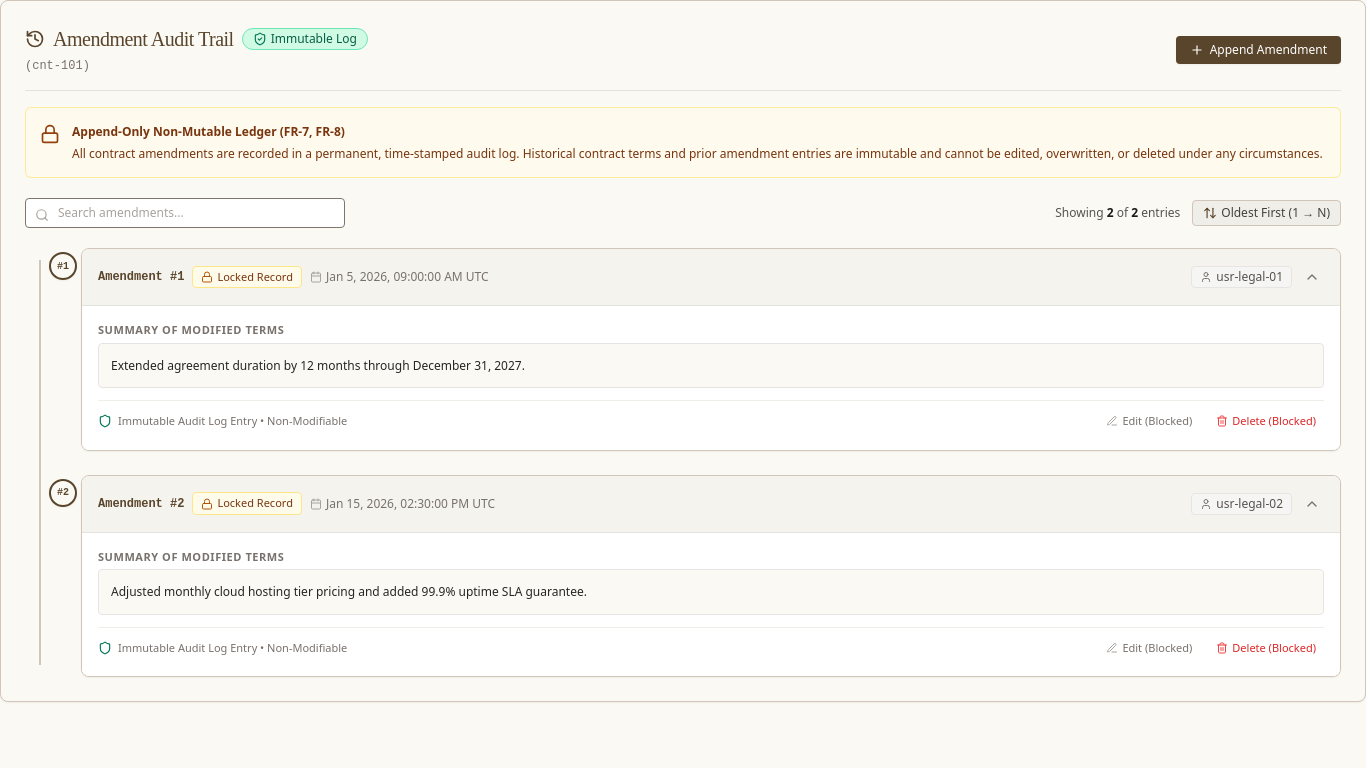
AmendmentTimeline Component [FR-7, FR-8] › toggles chronological sorting order between Oldest First and Newest First
The width and height of the screenshot is (1366, 768).
Click the button with test id "sort-toggle".
click(1267, 213)  # box [1192,200,1341,226]
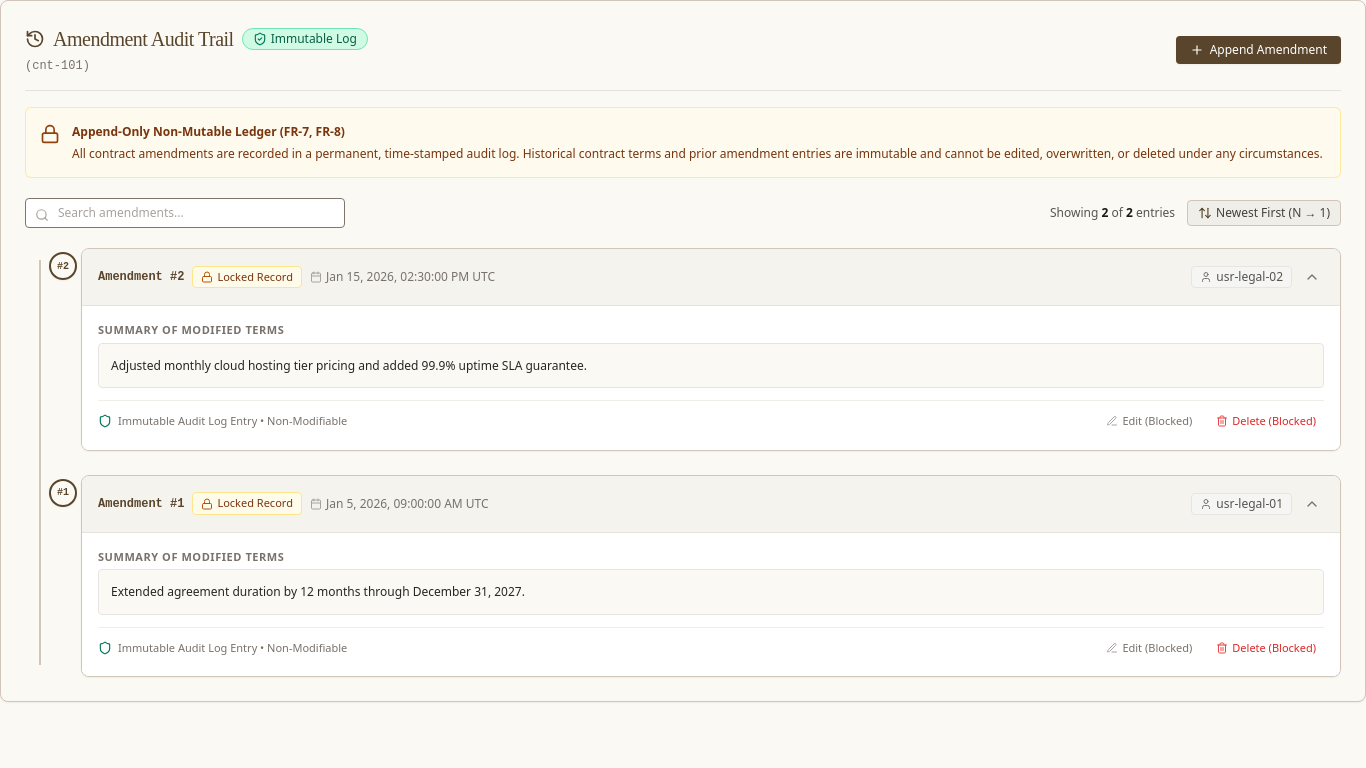
Expected: the button with test id "sort-toggle" reads "Newest First (N → 1)", [1187,200,1341,226]
